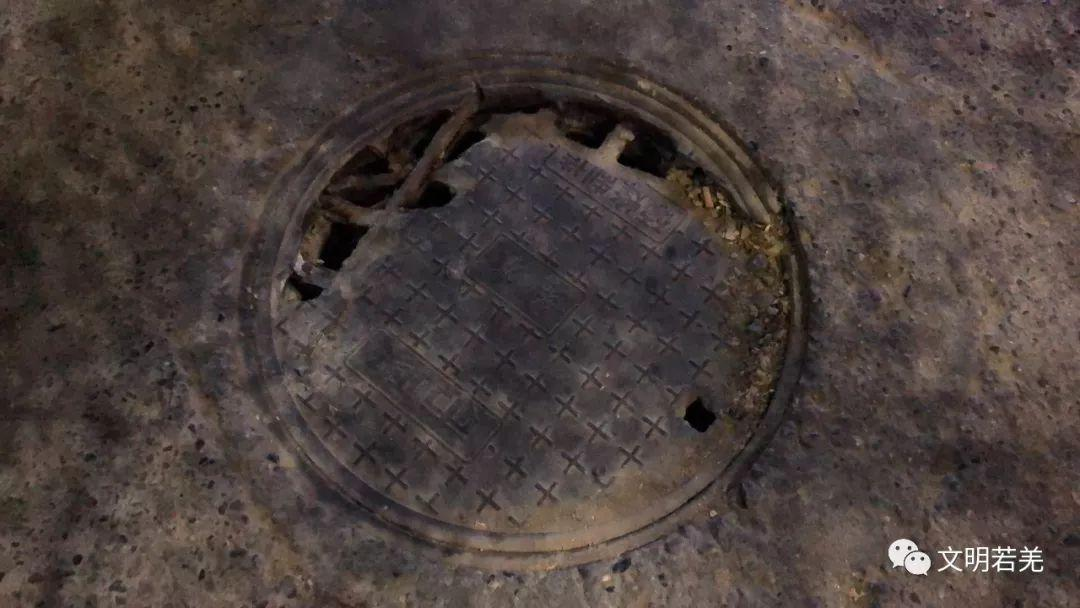wellcover: (260, 57, 804, 566)
